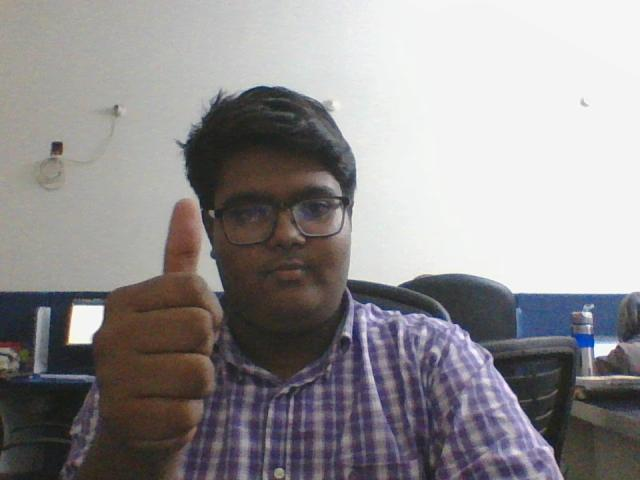thumbs-up: (92, 189, 229, 439)
